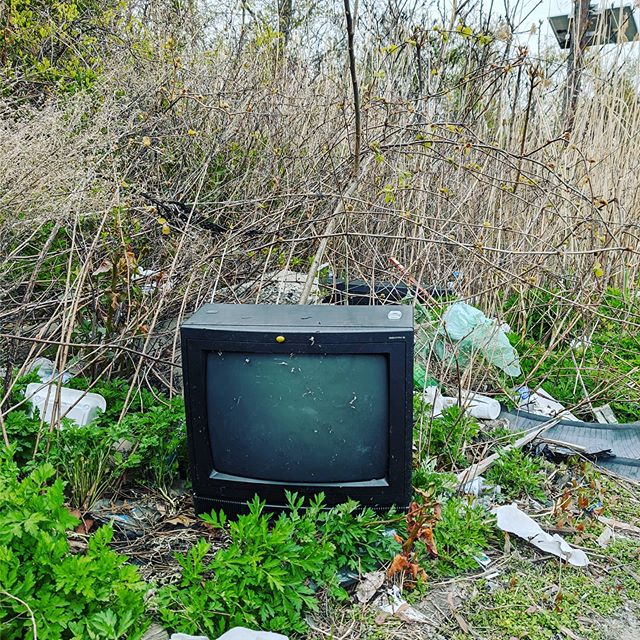trash: (1, 299, 636, 550)
vegetation: (42, 1, 640, 347)
